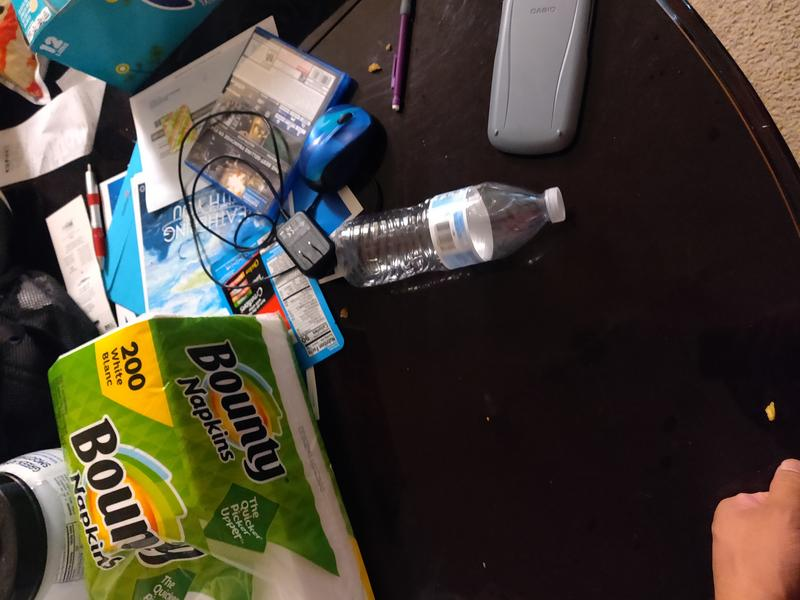bottle: (335, 182, 566, 287)
